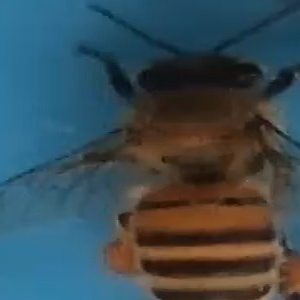bee: (23, 3, 297, 300)
